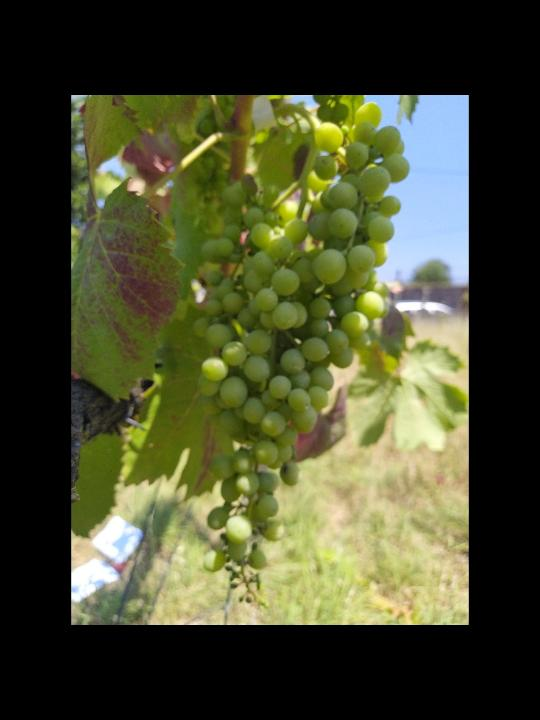grape: (196, 101, 411, 605)
